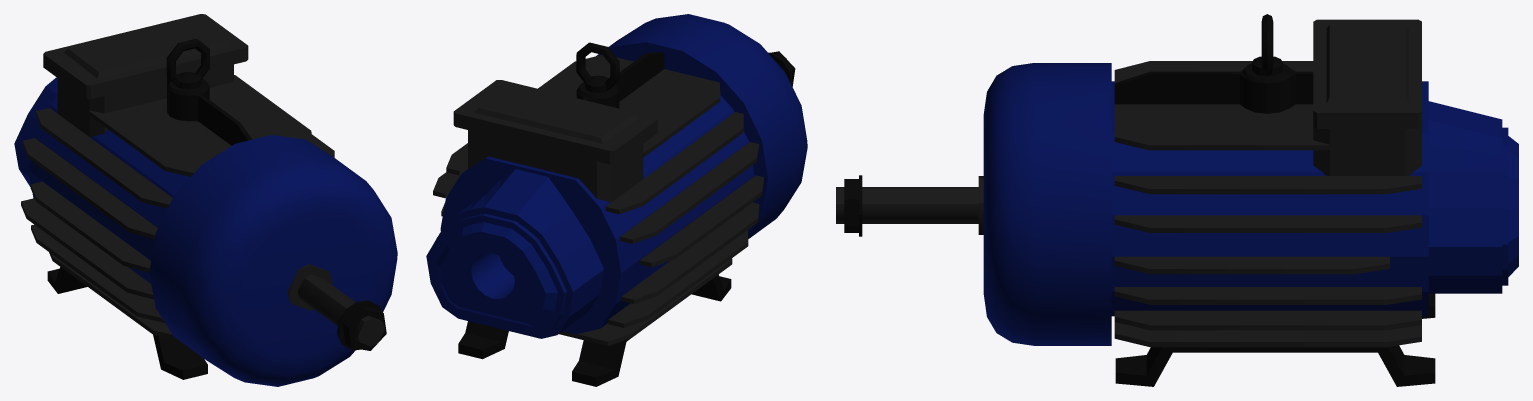
Rendered from SM_ElectricMotor.fbx.
3 views of the same model, side by side, from view 1: azimuth 30°, elevation 25°; view 2: azimuth 150°, elevation 25°; view 3: azimuth 270°, elevation 25° (orthographic). The views are drawn at different scales.
Parts seen in each view (by area): view 1: SM_ElectricMotor; view 2: SM_ElectricMotor; view 3: SM_ElectricMotor.
Part boxes in pixels (left/top/right/bottom): SM_ElectricMotor: left=14, top=14, right=397, bottom=386; SM_ElectricMotor: left=426, top=14, right=807, bottom=386; SM_ElectricMotor: left=836, top=14, right=1518, bottom=386.
Size of the model in its own units: 44.89 by 97.73 by 51.24.
